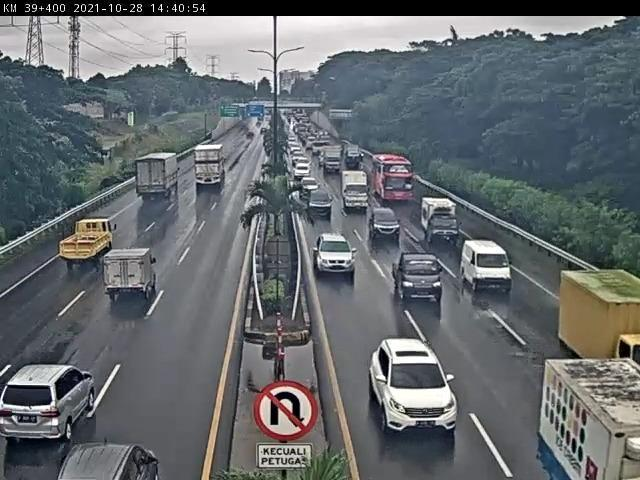bus: (369, 152, 410, 200)
car: (372, 340, 463, 435), (1, 360, 97, 441), (462, 241, 514, 295), (395, 253, 444, 301), (314, 231, 358, 277), (369, 207, 403, 240), (306, 189, 336, 221)
truck: (100, 249, 159, 306), (58, 218, 117, 268), (135, 153, 180, 199), (422, 195, 461, 245), (343, 170, 373, 212)
